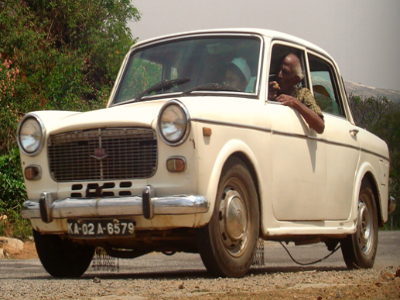licence: (55, 203, 166, 244)
